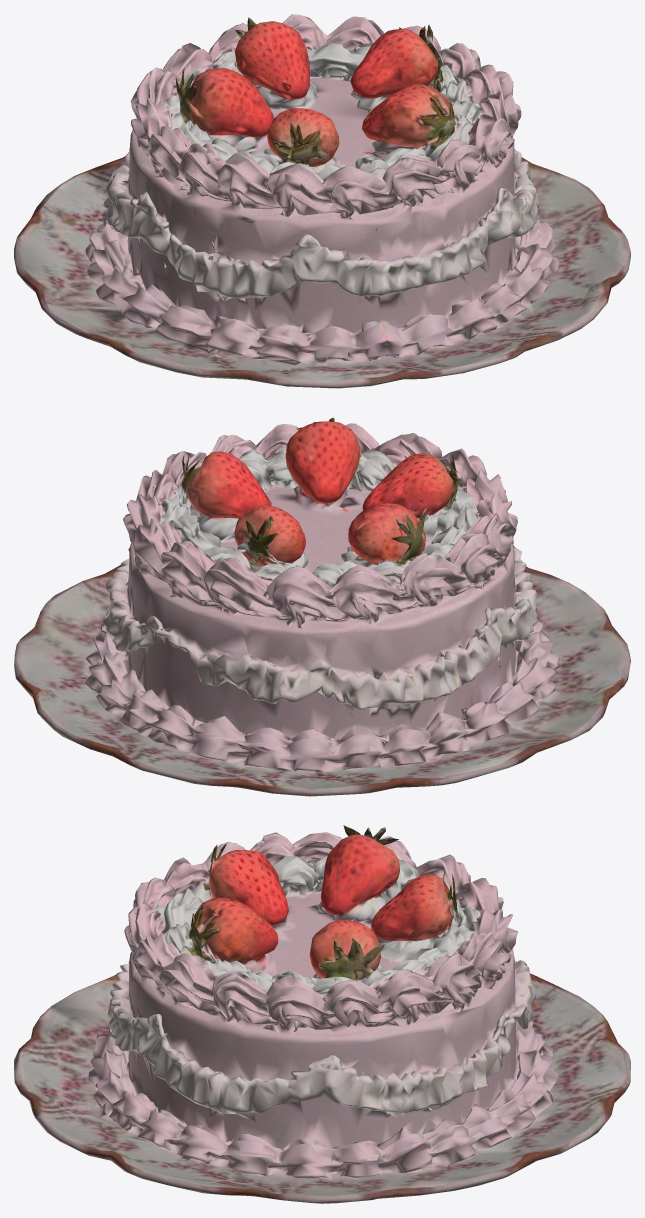
File: strawberry_rose_tea.glb
The picture shows the model from 3 angles, top to bottom: view 1: azimuth 30°, elevation 25°; view 2: azimuth 150°, elevation 25°; view 3: azimuth 270°, elevation 25°; orthographic projection.
Bounding box in the file's own units: 1.9 × 0.7397 × 1.9.
Materials: 1 (1 with a texture image).
